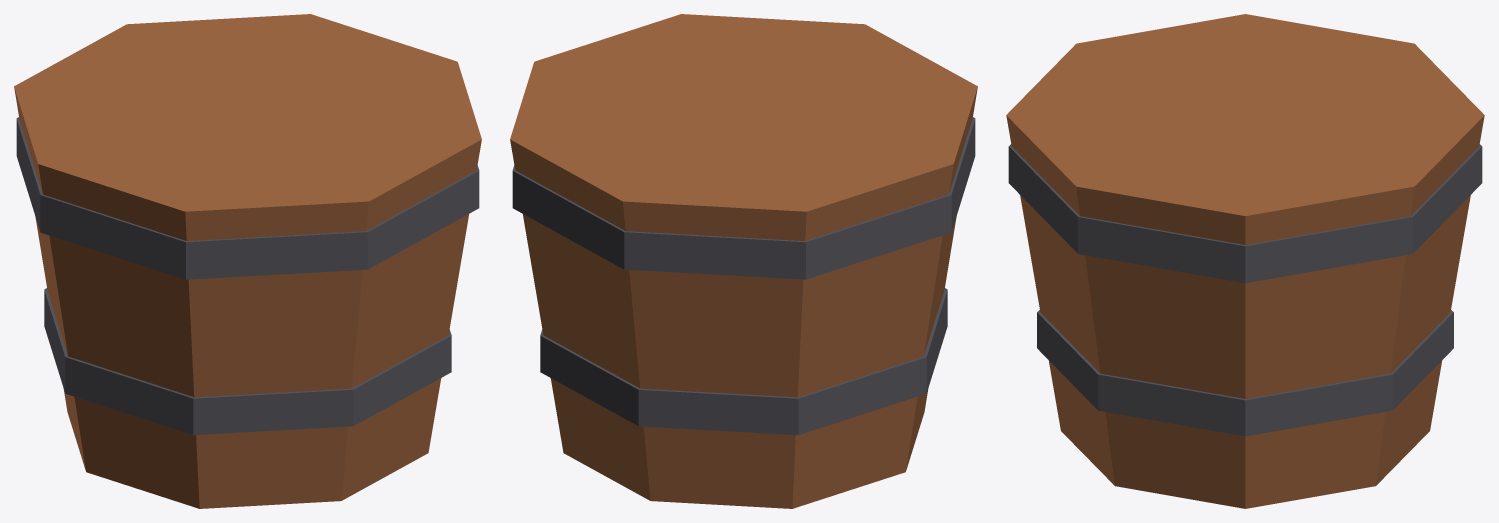
The model's file is Bucket.fbx.
3 renders of one model, left to right at view 1: azimuth 30°, elevation 25°; view 2: azimuth 150°, elevation 25°; view 3: azimuth 270°, elevation 25°, orthographic.
Visible parts, largest first — view 1: Bucket; view 2: Bucket; view 3: Bucket.
Boxes of the visible parts, x1=… form: Bucket: x1=14, y1=14, x2=481, y2=508; Bucket: x1=510, y1=14, x2=977, y2=508; Bucket: x1=1006, y1=14, x2=1484, y2=508.
Size of the model in its own units: 0.5252 by 0.3826 by 0.5252.
